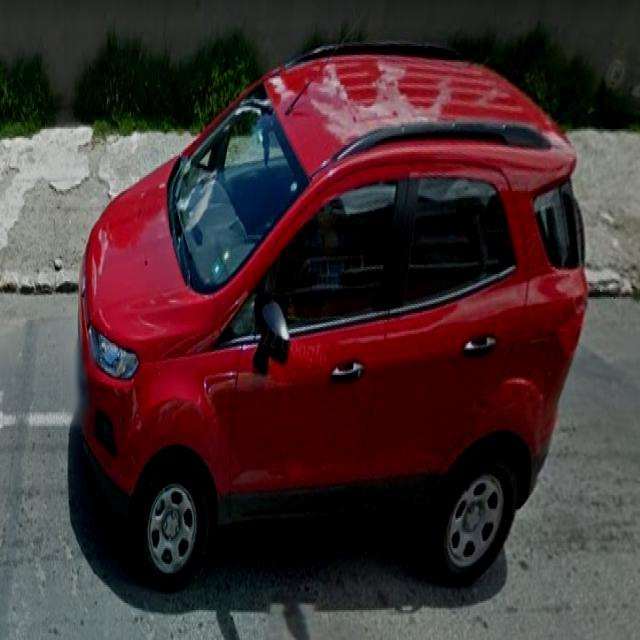car: (75, 43, 594, 598)
